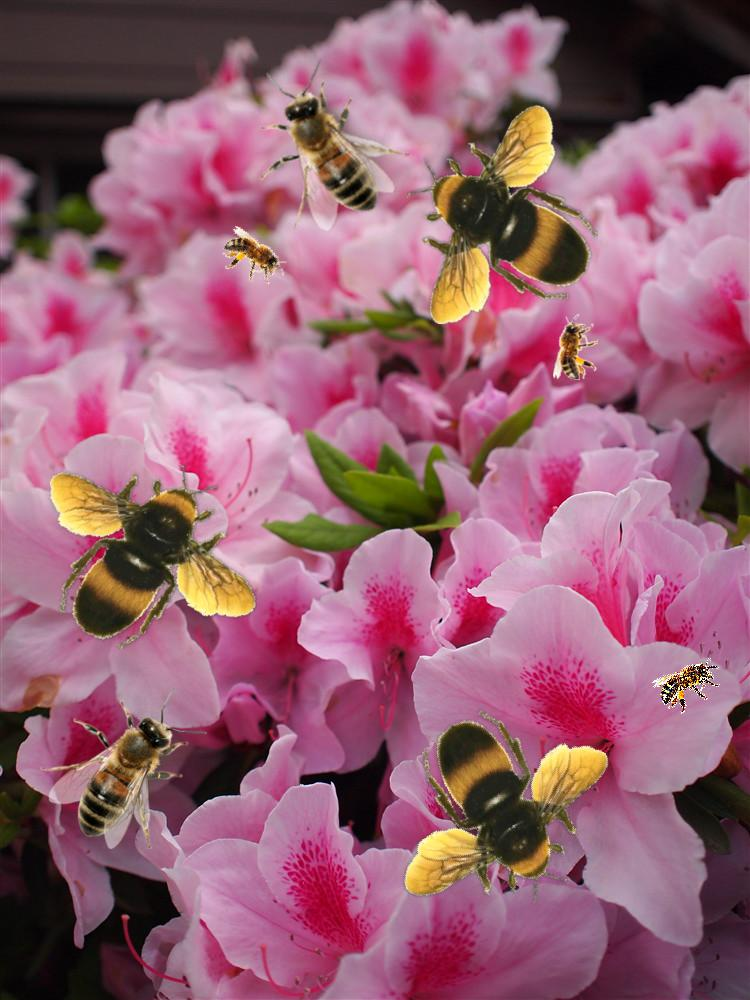Bee: (357, 673, 633, 960), (31, 448, 273, 665), (217, 43, 430, 257), (407, 104, 598, 324), (40, 687, 207, 849), (650, 646, 730, 721), (215, 224, 295, 293), (553, 314, 598, 380)
